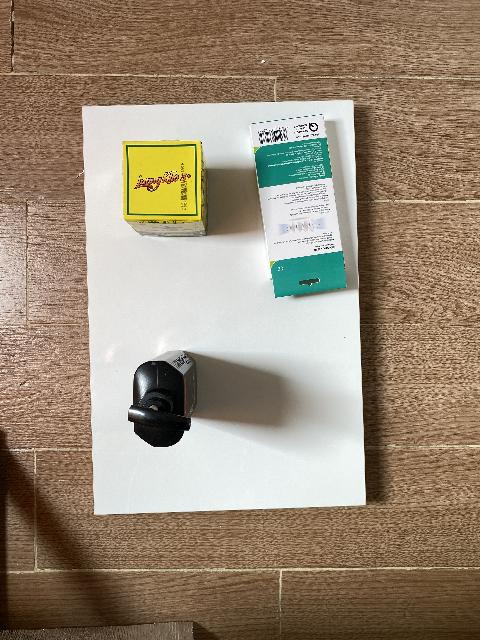4D_medical_face-mask: (249, 115, 347, 298)
X-men: (127, 350, 197, 447)
luong_kho: (122, 141, 208, 237)
